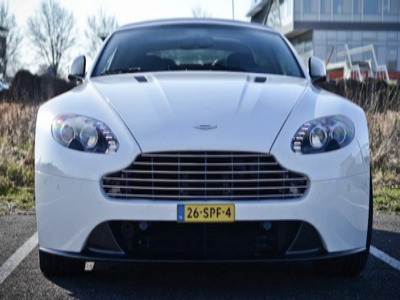licence: (175, 198, 242, 228)
